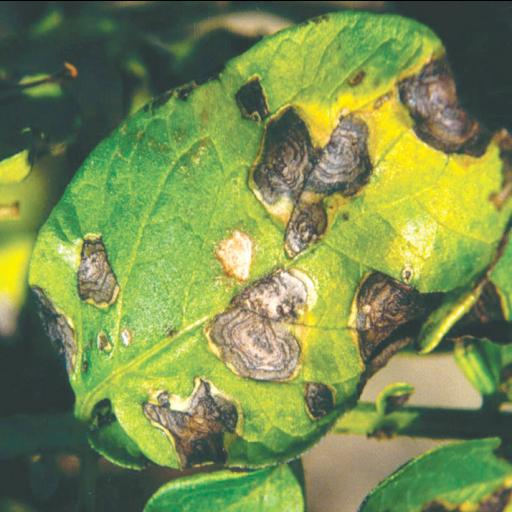Early Blight: (23, 0, 512, 480)
